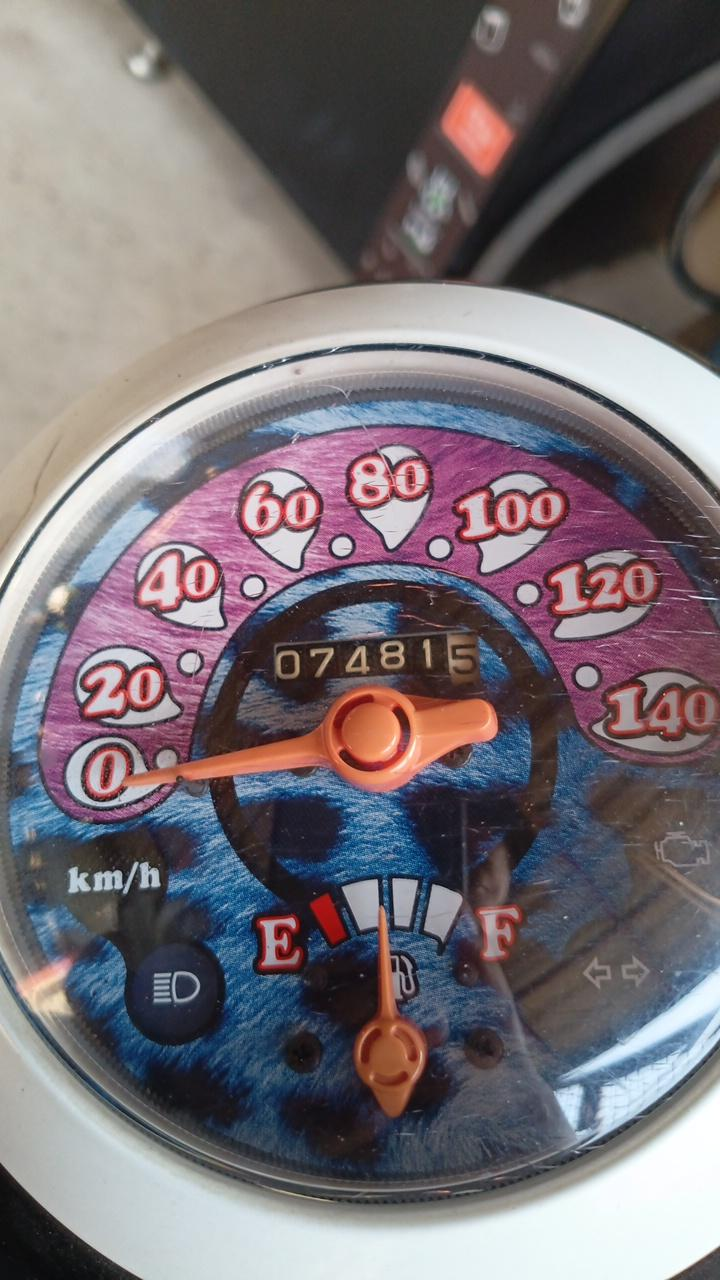0: (275, 649, 301, 680)
1: (423, 637, 432, 669)
4: (344, 644, 371, 676)
5: (451, 643, 479, 676)
7: (309, 647, 334, 679)
8: (380, 641, 406, 670)
odometer: (273, 629, 484, 692)
